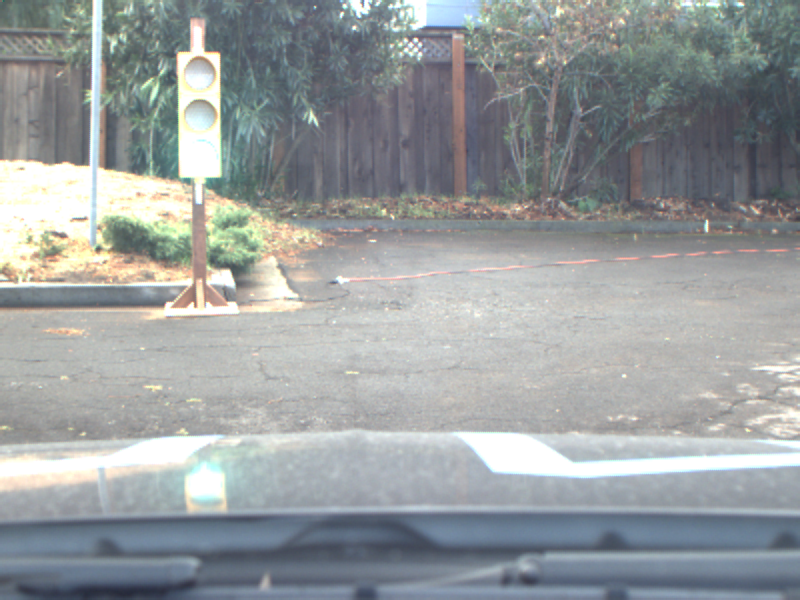Green: (177, 51, 222, 177)
